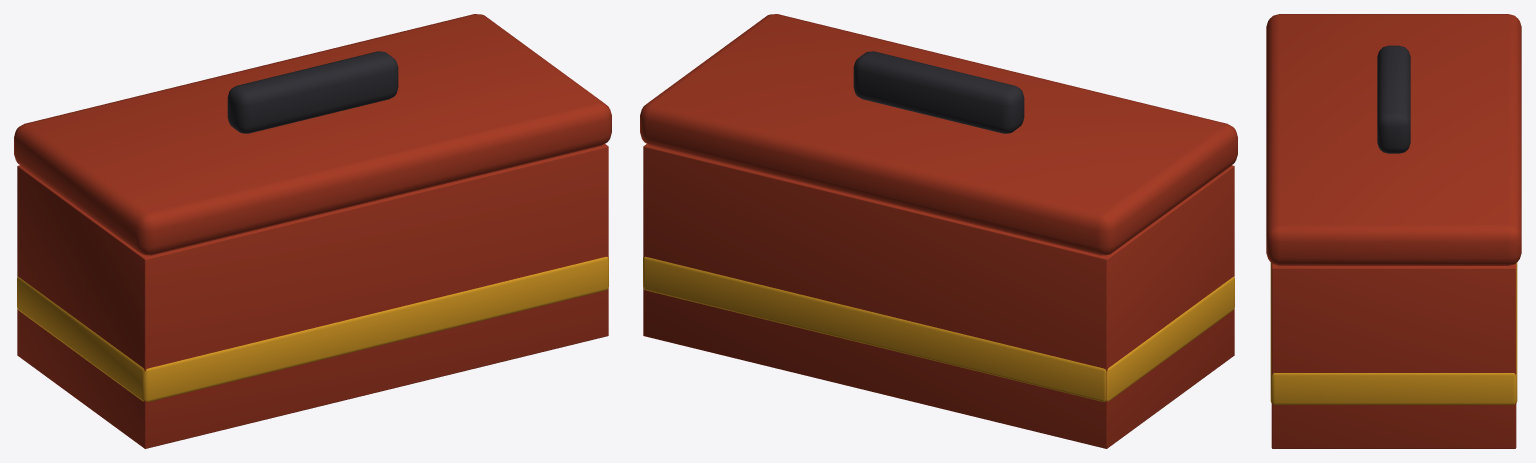
File: toolbox.glb
3 renders of one model, left to right at view 1: azimuth 30°, elevation 25°; view 2: azimuth 150°, elevation 25°; view 3: azimuth 270°, elevation 25°, orthographic. The views are drawn at different scales.
Parts seen in each view (by area): view 1: toolbox, toolbox_lid; view 2: toolbox, toolbox_lid; view 3: toolbox_lid, toolbox.
Boxes of the visible parts, x1=… form: toolbox: x1=17, y1=144, x2=608, y2=448; toolbox_lid: x1=14, y1=14, x2=611, y2=255; toolbox: x1=643, y1=144, x2=1234, y2=448; toolbox_lid: x1=640, y1=14, x2=1237, y2=255; toolbox_lid: x1=1266, y1=14, x2=1521, y2=265; toolbox: x1=1270, y1=262, x2=1517, y2=448.
Bounding box in the file's own units: 0.47 × 0.26 × 0.23.
